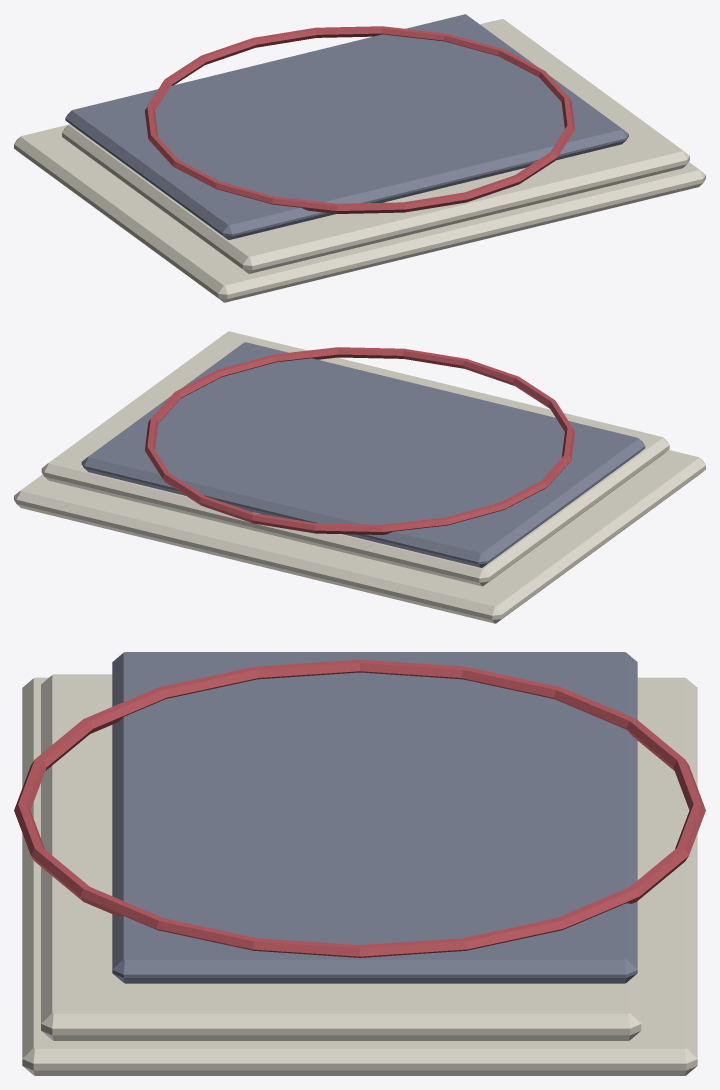
Rendered from orchestra-and-band-instruments-polishing-cloth-4c93f7f3__39317.glb.
The picture shows the model from 3 angles, top to bottom: view 1: azimuth 30°, elevation 25°; view 2: azimuth 150°, elevation 25°; view 3: azimuth 270°, elevation 25°; orthographic projection. The views are drawn at different scales.
Parts seen in each view (by area): view 1: polishing-cloth; view 2: polishing-cloth; view 3: polishing-cloth.
Part boxes in pixels (x1,y1,x2,y2): polishing-cloth: (14, 14, 705, 302); polishing-cloth: (14, 331, 705, 623); polishing-cloth: (14, 652, 705, 1075).
Size of the model in its own units: 0.24 by 0.0254 by 0.1844.
